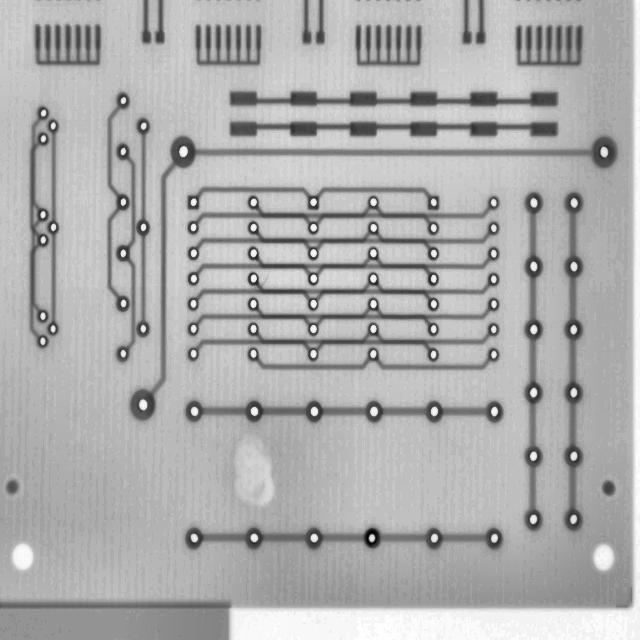Both: (230, 91, 558, 106), (230, 122, 557, 136), (195, 25, 262, 66), (516, 25, 583, 66), (35, 24, 101, 65), (356, 25, 422, 66), (6, 540, 39, 574), (591, 136, 617, 169), (171, 136, 196, 168), (130, 389, 155, 421), (591, 543, 615, 572), (241, 399, 267, 425), (361, 399, 386, 424), (421, 526, 446, 551), (561, 506, 584, 531), (423, 400, 446, 424), (303, 527, 325, 550), (304, 400, 324, 423), (524, 255, 544, 278), (184, 526, 204, 549), (184, 400, 204, 422), (244, 527, 264, 549), (525, 191, 544, 213), (524, 509, 543, 530), (485, 401, 503, 423), (486, 528, 502, 549), (526, 320, 543, 339), (566, 383, 582, 403), (364, 528, 380, 548), (526, 383, 541, 404), (566, 445, 581, 466), (135, 320, 152, 338), (567, 257, 582, 276), (135, 219, 151, 236), (567, 320, 581, 338), (568, 193, 581, 211), (186, 246, 201, 261), (5, 479, 20, 494), (116, 246, 130, 262), (116, 92, 130, 108), (136, 118, 150, 134), (528, 447, 541, 464), (116, 346, 129, 362), (46, 322, 60, 336), (426, 347, 439, 362), (37, 233, 49, 247), (117, 297, 129, 311), (427, 297, 439, 311), (603, 481, 615, 495), (37, 107, 49, 120), (117, 196, 129, 209), (487, 247, 499, 260), (117, 144, 128, 158), (188, 195, 199, 209), (488, 221, 499, 235), (37, 208, 48, 221), (428, 323, 439, 336), (488, 348, 499, 361), (488, 273, 499, 286), (248, 272, 258, 286), (248, 347, 258, 361), (308, 347, 318, 361), (188, 348, 198, 361), (248, 247, 258, 260), (428, 196, 438, 209), (428, 272, 438, 285), (38, 335, 48, 347), (188, 298, 198, 310), (188, 323, 198, 335), (248, 196, 258, 208), (308, 323, 318, 335), (368, 196, 378, 208), (368, 222, 378, 234), (428, 222, 438, 234), (248, 222, 258, 233), (308, 273, 318, 284), (308, 222, 318, 233), (368, 273, 378, 284), (48, 120, 57, 132), (39, 132, 48, 144), (189, 273, 198, 285), (369, 298, 378, 310), (369, 323, 378, 335), (369, 348, 378, 360), (489, 197, 498, 209), (489, 298, 498, 310), (38, 310, 47, 321), (189, 222, 198, 233), (249, 323, 258, 334), (309, 248, 318, 259), (308, 197, 317, 208), (489, 324, 498, 335), (49, 221, 57, 233), (249, 298, 257, 309), (369, 248, 377, 259), (430, 248, 438, 259), (309, 299, 317, 309)
L1: (150, 160, 177, 397), (195, 148, 593, 156), (254, 227, 372, 245), (374, 356, 492, 371), (255, 355, 373, 370), (374, 330, 491, 345), (255, 305, 372, 320), (255, 280, 372, 295), (375, 230, 492, 245), (376, 305, 492, 320), (374, 281, 492, 295), (255, 330, 371, 344), (255, 255, 371, 269), (375, 205, 493, 218), (375, 256, 492, 269), (256, 205, 372, 218), (107, 206, 122, 299), (30, 219, 44, 313), (107, 105, 121, 197), (123, 153, 136, 251), (31, 117, 42, 212), (127, 257, 135, 349), (314, 0, 326, 44), (51, 233, 56, 325), (202, 533, 247, 543), (141, 234, 146, 323), (381, 408, 430, 417), (463, 0, 472, 44), (156, 0, 165, 43), (529, 213, 537, 260), (441, 407, 488, 415), (52, 131, 56, 222), (262, 406, 307, 414), (141, 132, 145, 221), (262, 534, 306, 542), (381, 534, 425, 542), (202, 408, 246, 416), (303, 0, 311, 44), (569, 402, 576, 448), (569, 339, 576, 384), (529, 276, 536, 321), (529, 339, 536, 384), (529, 404, 536, 448), (529, 467, 536, 511), (322, 409, 366, 416), (322, 535, 365, 542), (441, 534, 487, 540), (570, 275, 576, 320), (570, 213, 576, 258), (570, 467, 576, 510)
L2: (316, 185, 432, 201), (315, 288, 433, 303), (315, 237, 433, 252), (195, 238, 312, 252), (195, 212, 312, 226), (316, 314, 432, 328), (195, 263, 311, 277), (316, 339, 431, 353), (316, 263, 431, 277), (194, 289, 311, 302), (195, 338, 310, 351), (196, 314, 311, 327), (196, 186, 311, 199), (28, 141, 42, 240), (316, 214, 432, 225), (29, 242, 41, 340)
